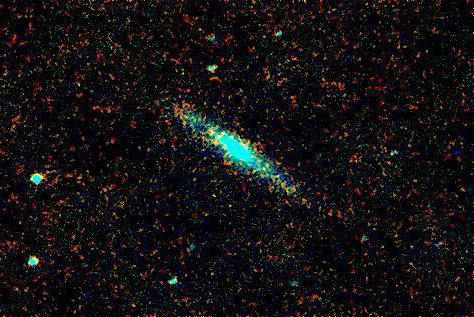star: (200, 131, 230, 161)
